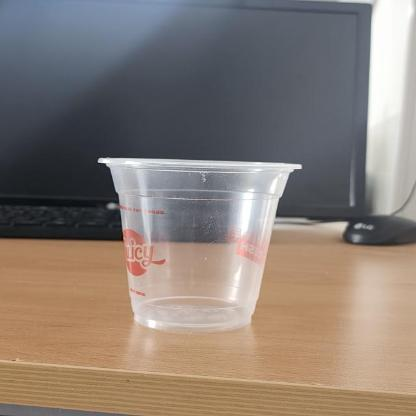Plastic Cup: (97, 156, 305, 330)
